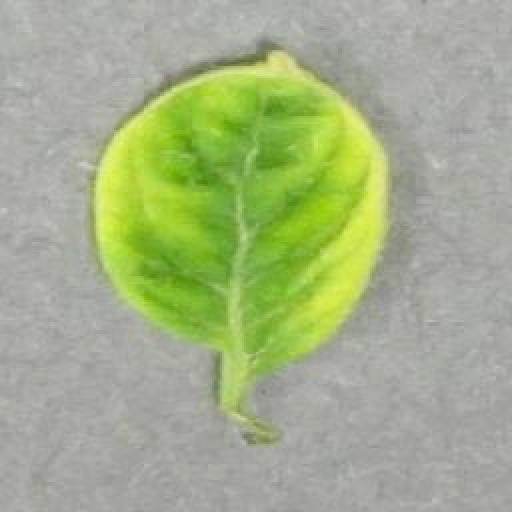disease_tomato: (96, 50, 390, 370)
